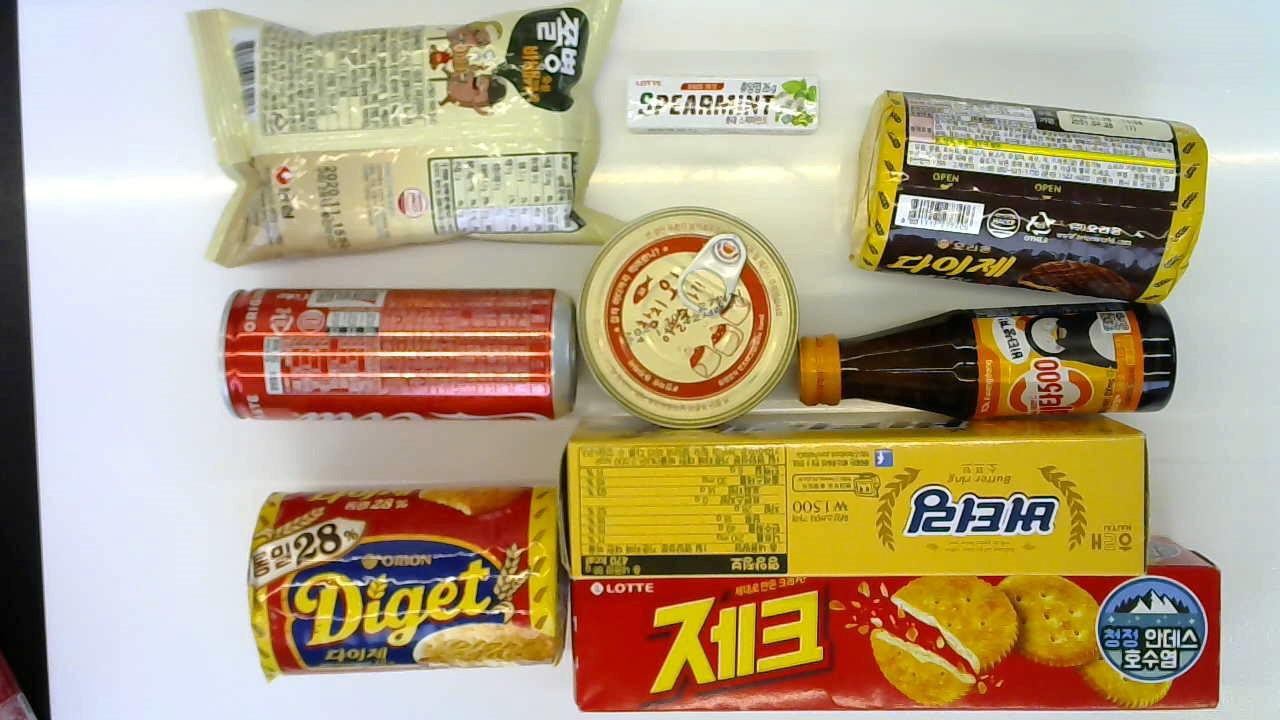buttering: (563, 417, 1146, 578)
coke: (218, 287, 579, 425)
diget_choco: (851, 87, 1207, 302)
diget_ori: (246, 482, 566, 674)
jjolbyung_ori: (186, 2, 625, 262)
spearmint: (627, 72, 818, 137)
tuna: (578, 209, 793, 425)
vita500: (801, 302, 1178, 421)
zec: (573, 535, 1221, 719)
